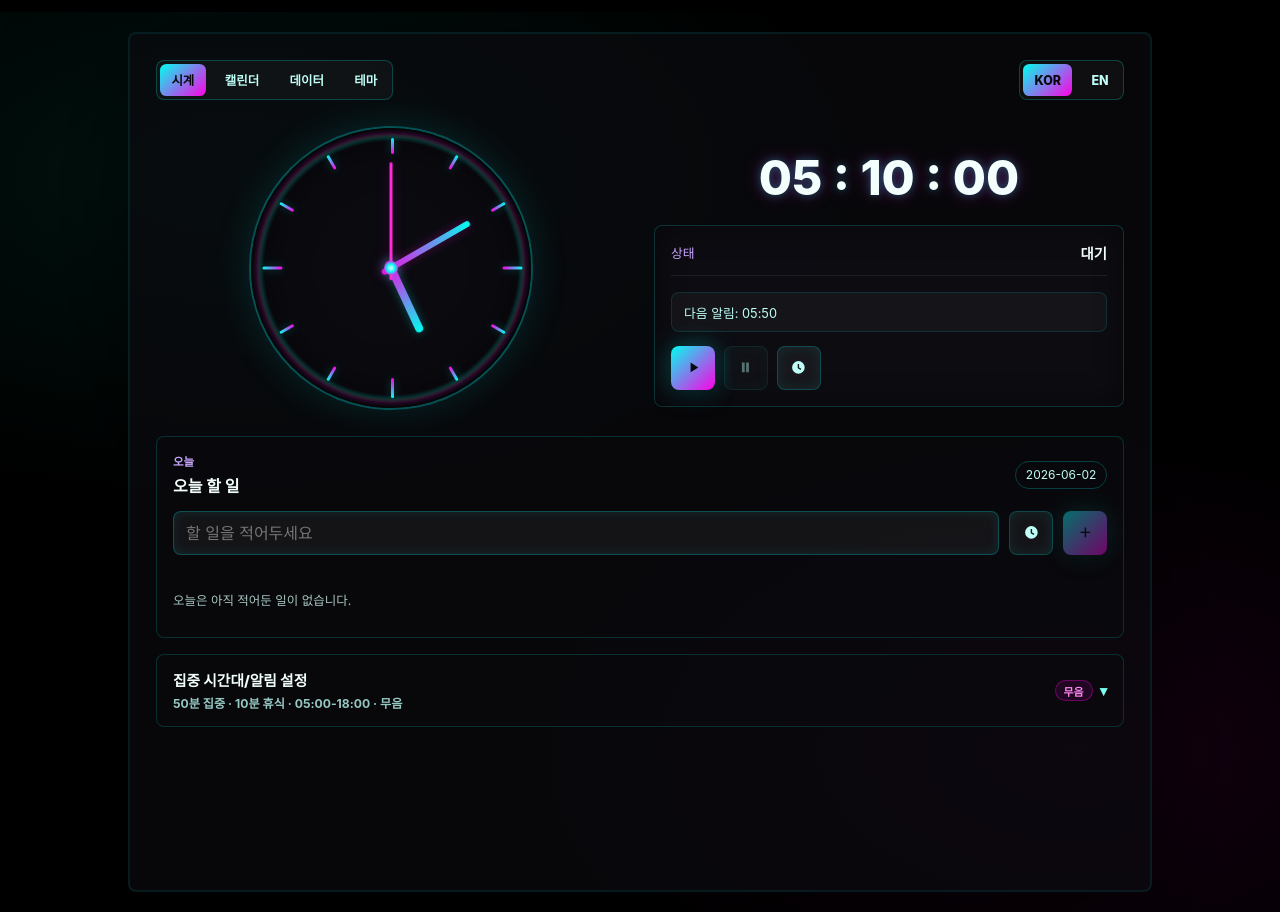
Test case: RhythmApp › toggles mute back to an audible notification sound
Click the button "집중 시간대/알림 설정 50분 집중 · 10분 휴식 · 05:00-18:00 · 무음 무음 ▾": (240, 681) [157,656,1123,726]
(page scrolled)
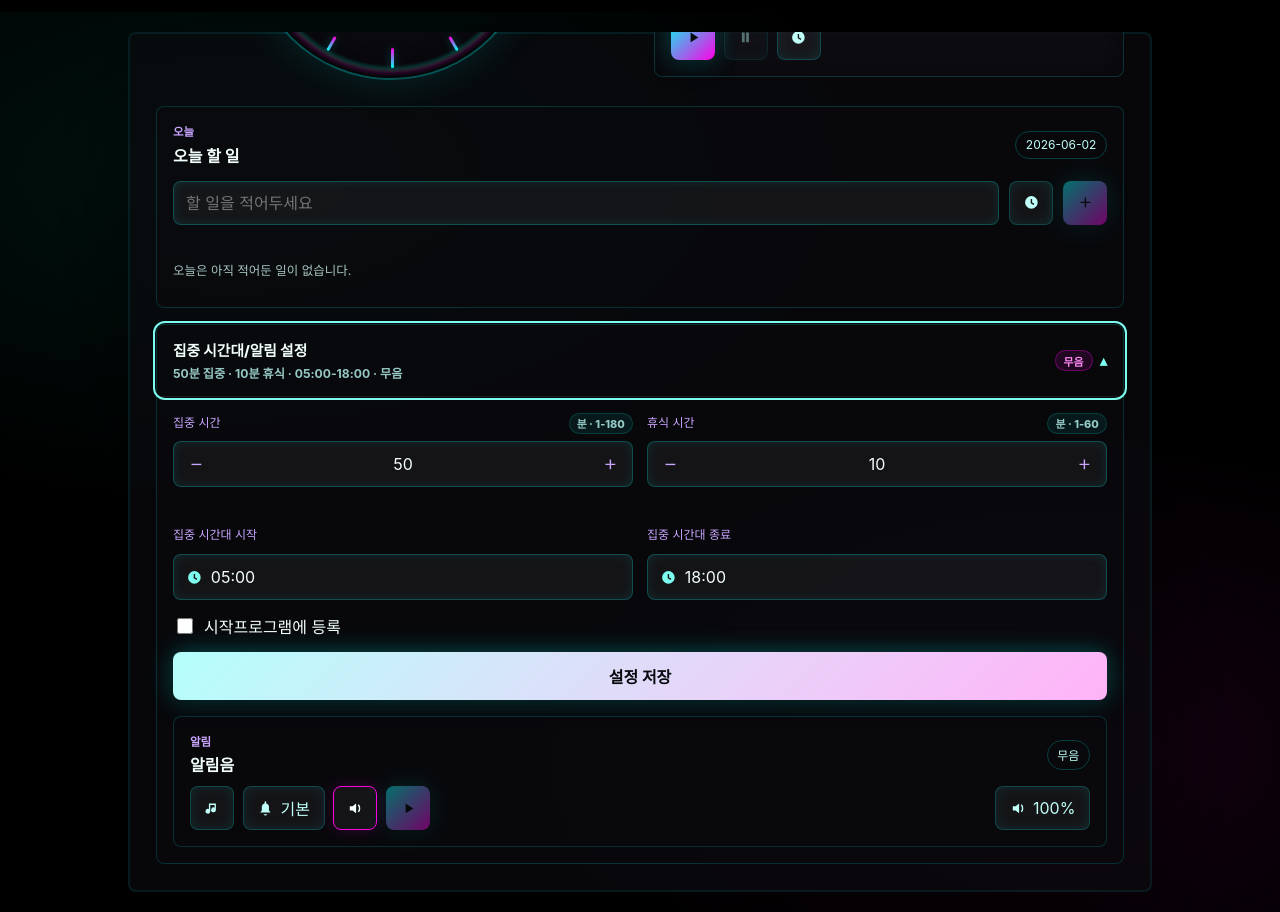
Click the button named "소리 켜기": (355, 808) [333,786,377,830]
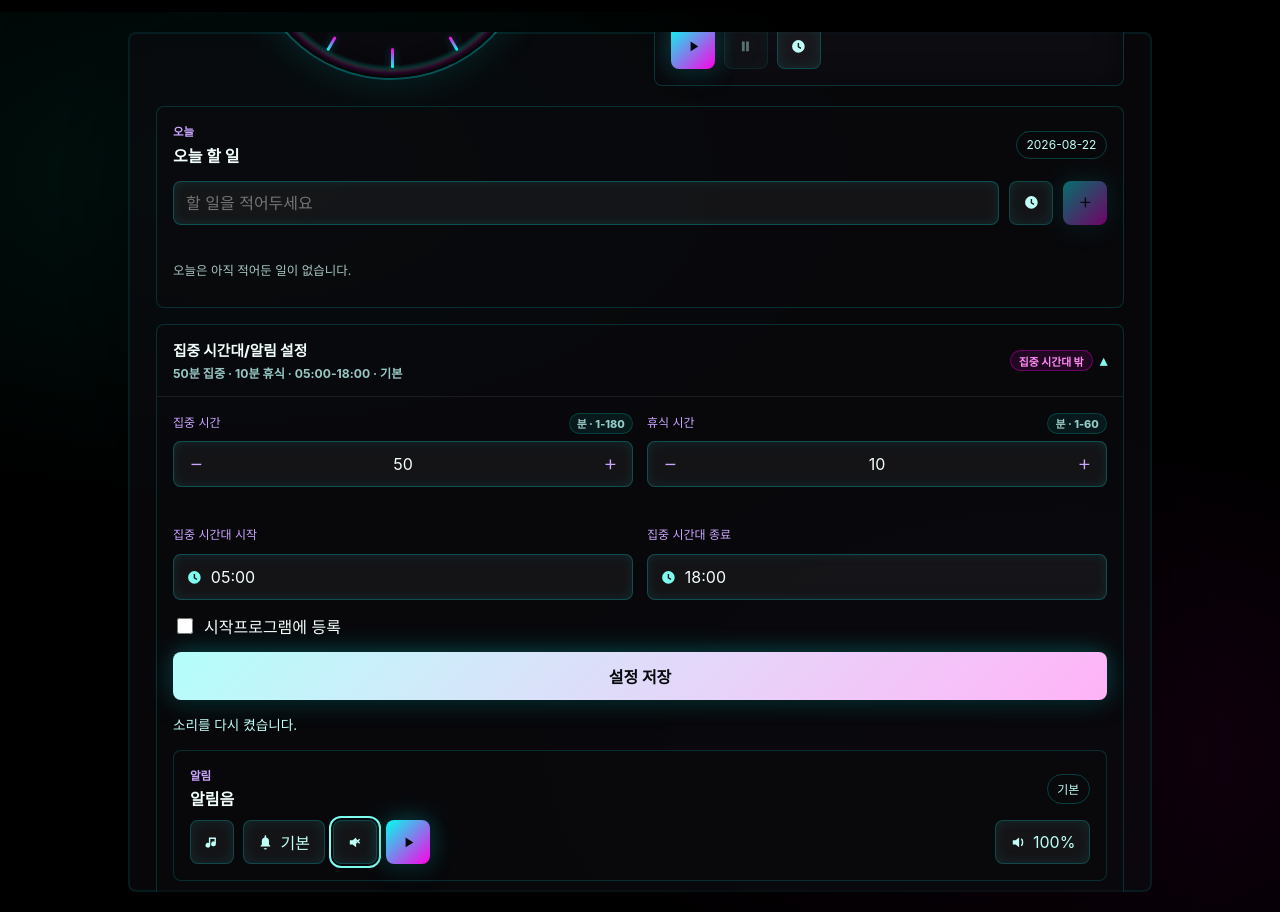
Now the button named "무음" is shown, box [333,820,377,864]
